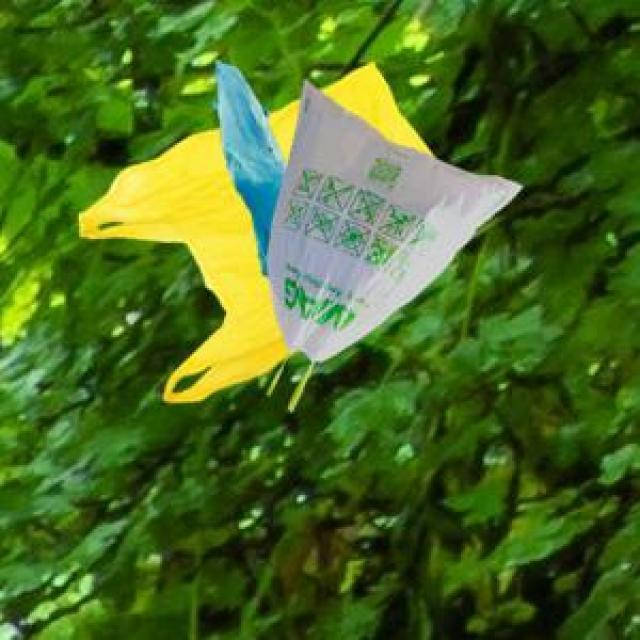waste: (80, 68, 444, 398), (271, 86, 517, 356)
